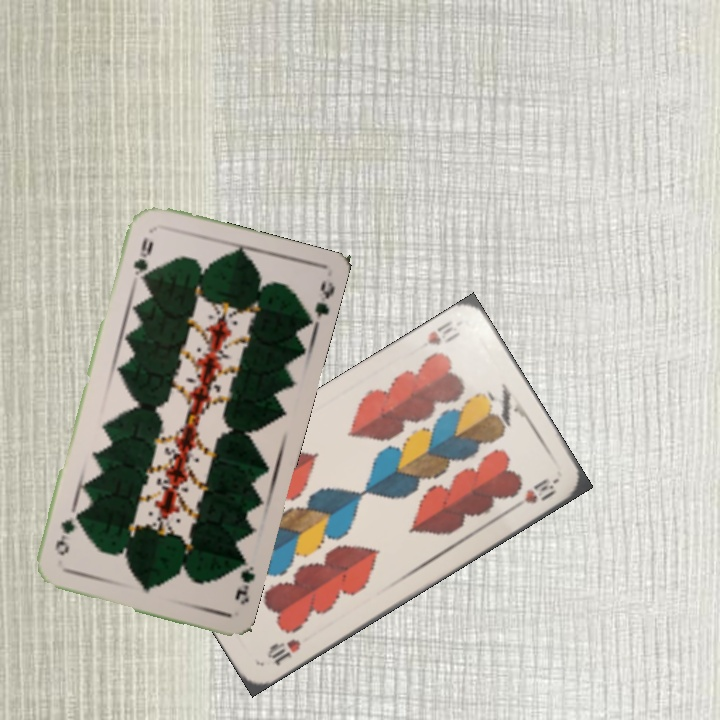G9: (231, 553, 258, 607), (129, 233, 156, 285)
H10: (263, 635, 304, 669), (423, 316, 463, 348)
